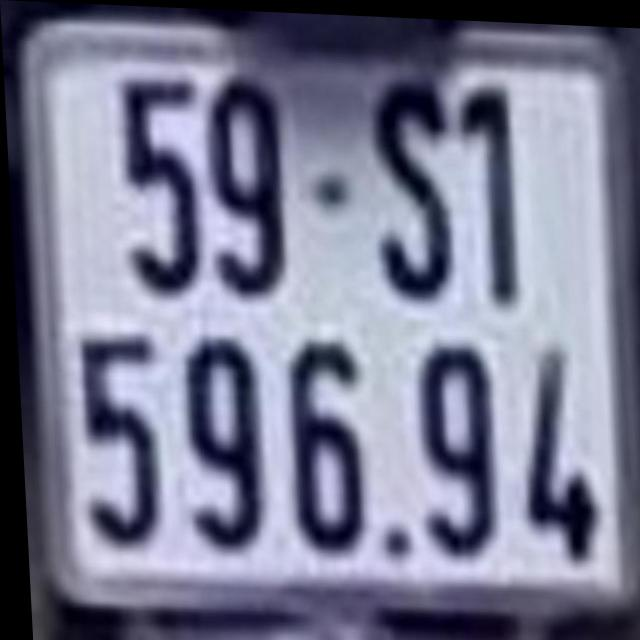1: (459, 75, 519, 300)
4: (514, 338, 597, 565)
5: (74, 328, 156, 541), (117, 73, 195, 283)
6: (285, 334, 365, 546)
9: (201, 75, 290, 298), (175, 332, 257, 547), (410, 333, 492, 540)
S: (366, 75, 461, 298)
